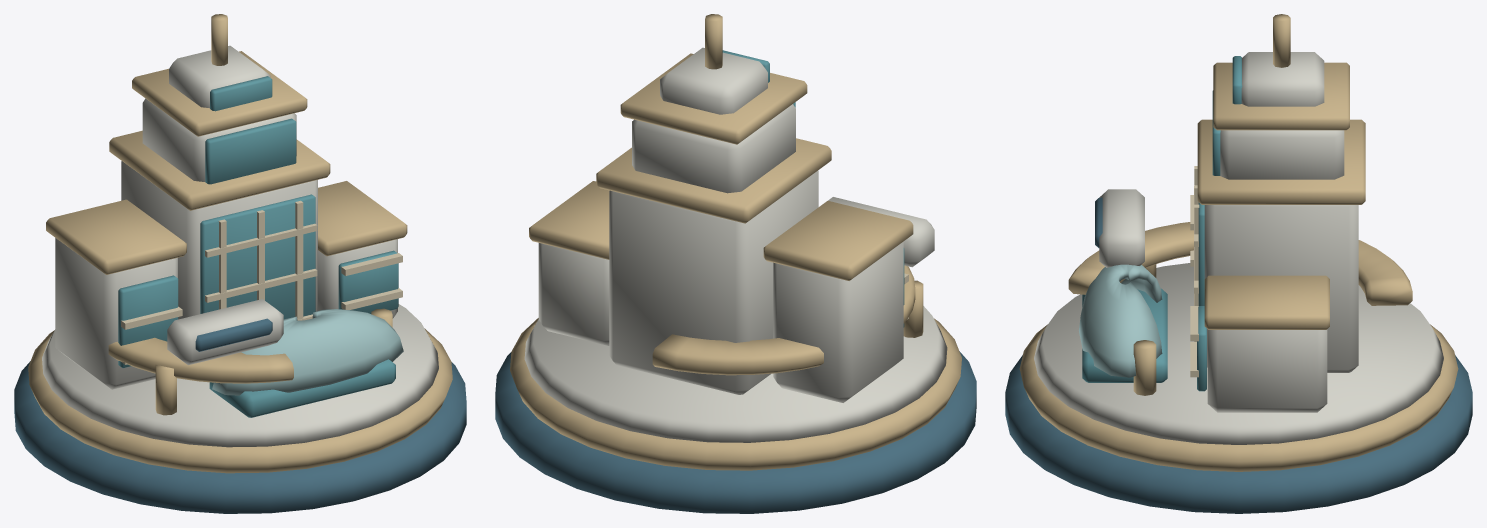
Rendered from ART-34.glb.
3 views of the same model, side by side, from view 1: azimuth 30°, elevation 25°; view 2: azimuth 150°, elevation 25°; view 3: azimuth 270°, elevation 25° (orthographic). The views are drawn at different scales.
Visible parts, largest first — view 1: world; view 2: world; view 3: world.
Part boxes in pixels (x1=…): world: x1=14, y1=14, x2=466, y2=513; world: x1=495, y1=14, x2=976, y2=513; world: x1=1005, y1=14, x2=1472, y2=513.
Bounding box in the file's own units: 2 × 1.94 × 2.
